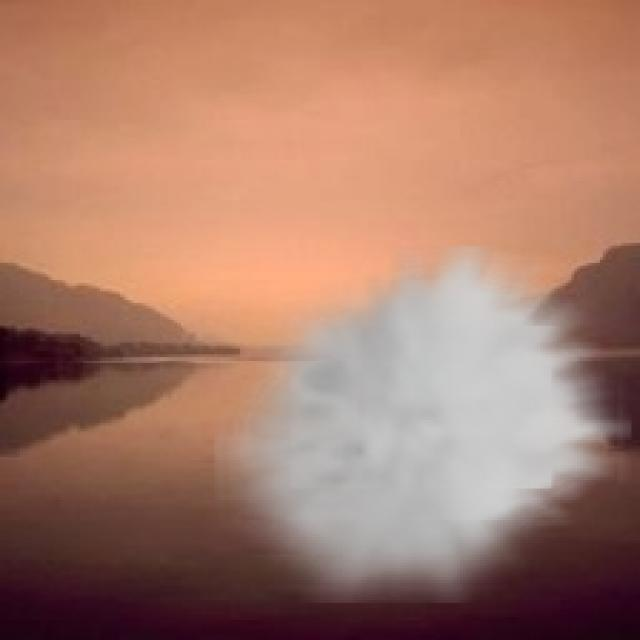smoke: (214, 246, 632, 603)
